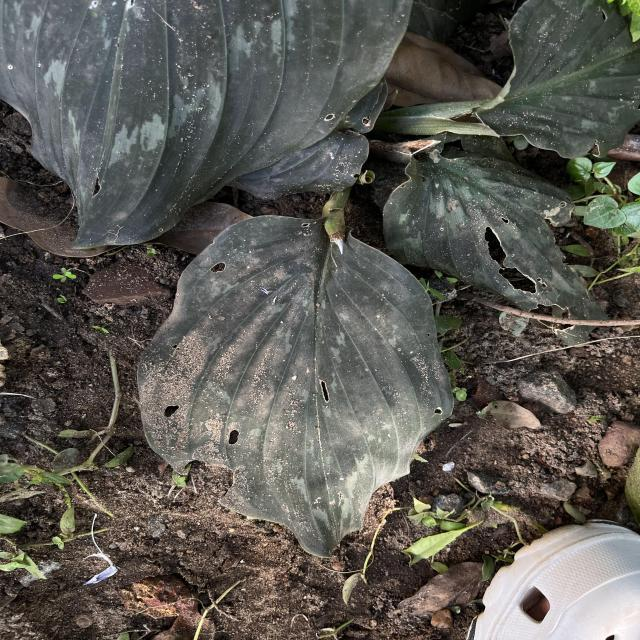Kaempferia galanga linn: (134, 211, 453, 561)
